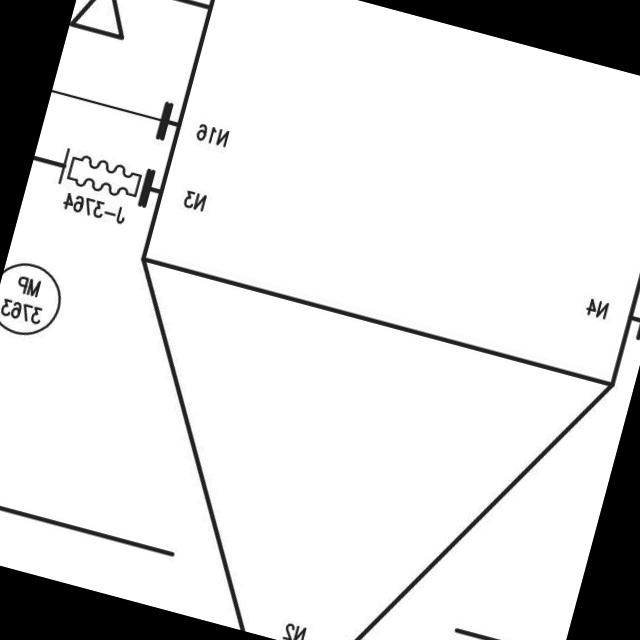EJ: (52, 138, 153, 206)
